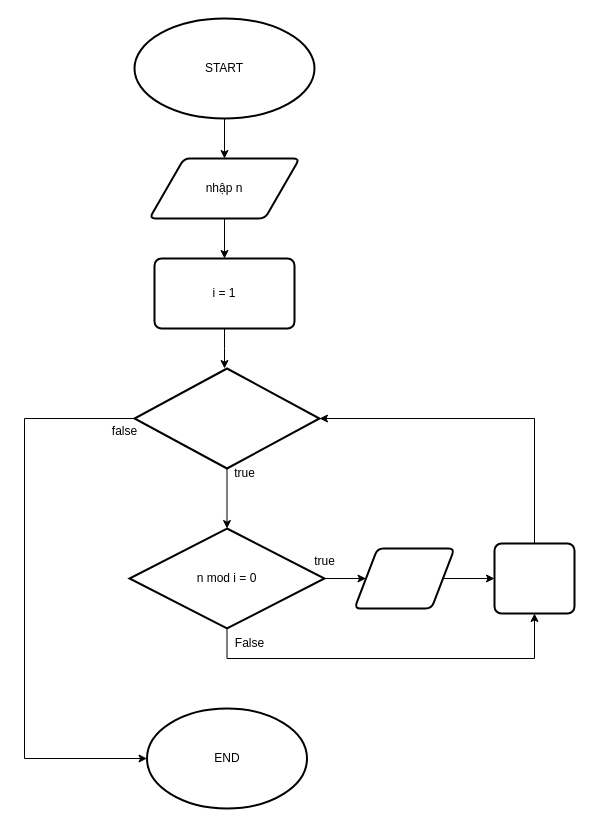
This 593x826 diagram has some shape labels left out. Each missing label, with the box of its shape:
i = i +1: (493, 542, 575, 614)
if i <= n: (133, 367, 320, 469)
in i là ước của n: (353, 547, 455, 609)
